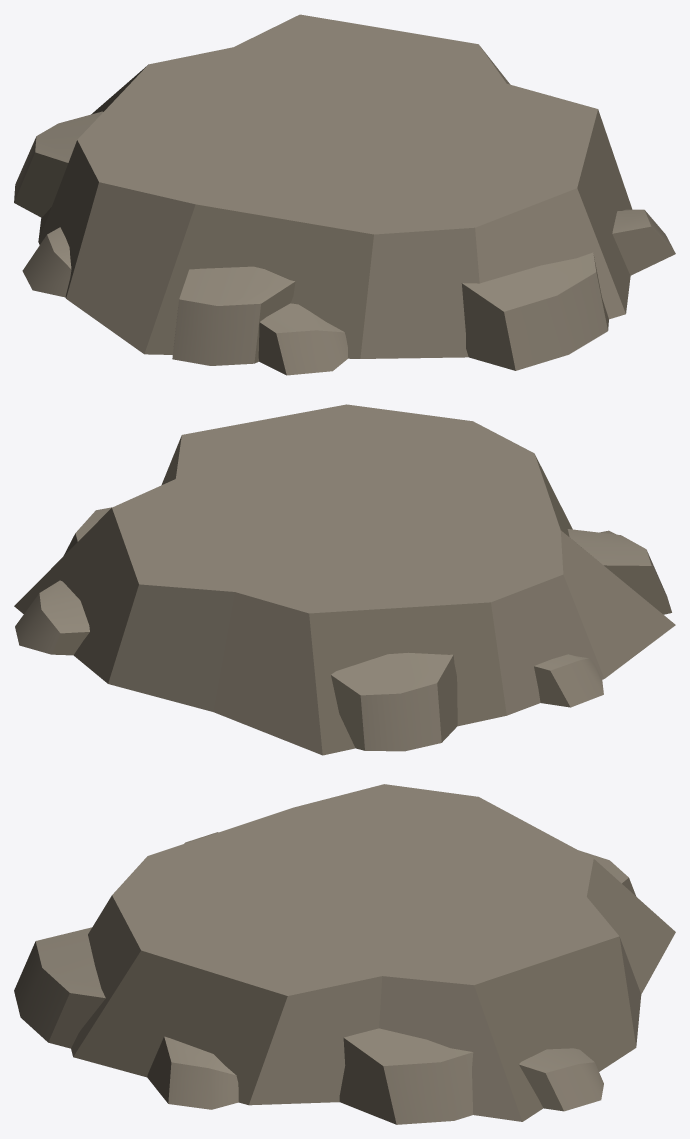
Rendered from caillou.fbx.
The picture shows the model from 3 angles, top to bottom: view 1: azimuth 30°, elevation 25°; view 2: azimuth 150°, elevation 25°; view 3: azimuth 270°, elevation 25°; orthographic projection. The views are drawn at different scales.
Visible parts, largest first — view 1: caillou; view 2: caillou; view 3: caillou.
Part boxes in pixels (x1,y1,x2,y2): caillou: (14, 14, 675, 375); caillou: (14, 404, 675, 755); caillou: (14, 784, 675, 1124).
Size of the model in its own units: 12.52 by 2.2 by 13.16.
